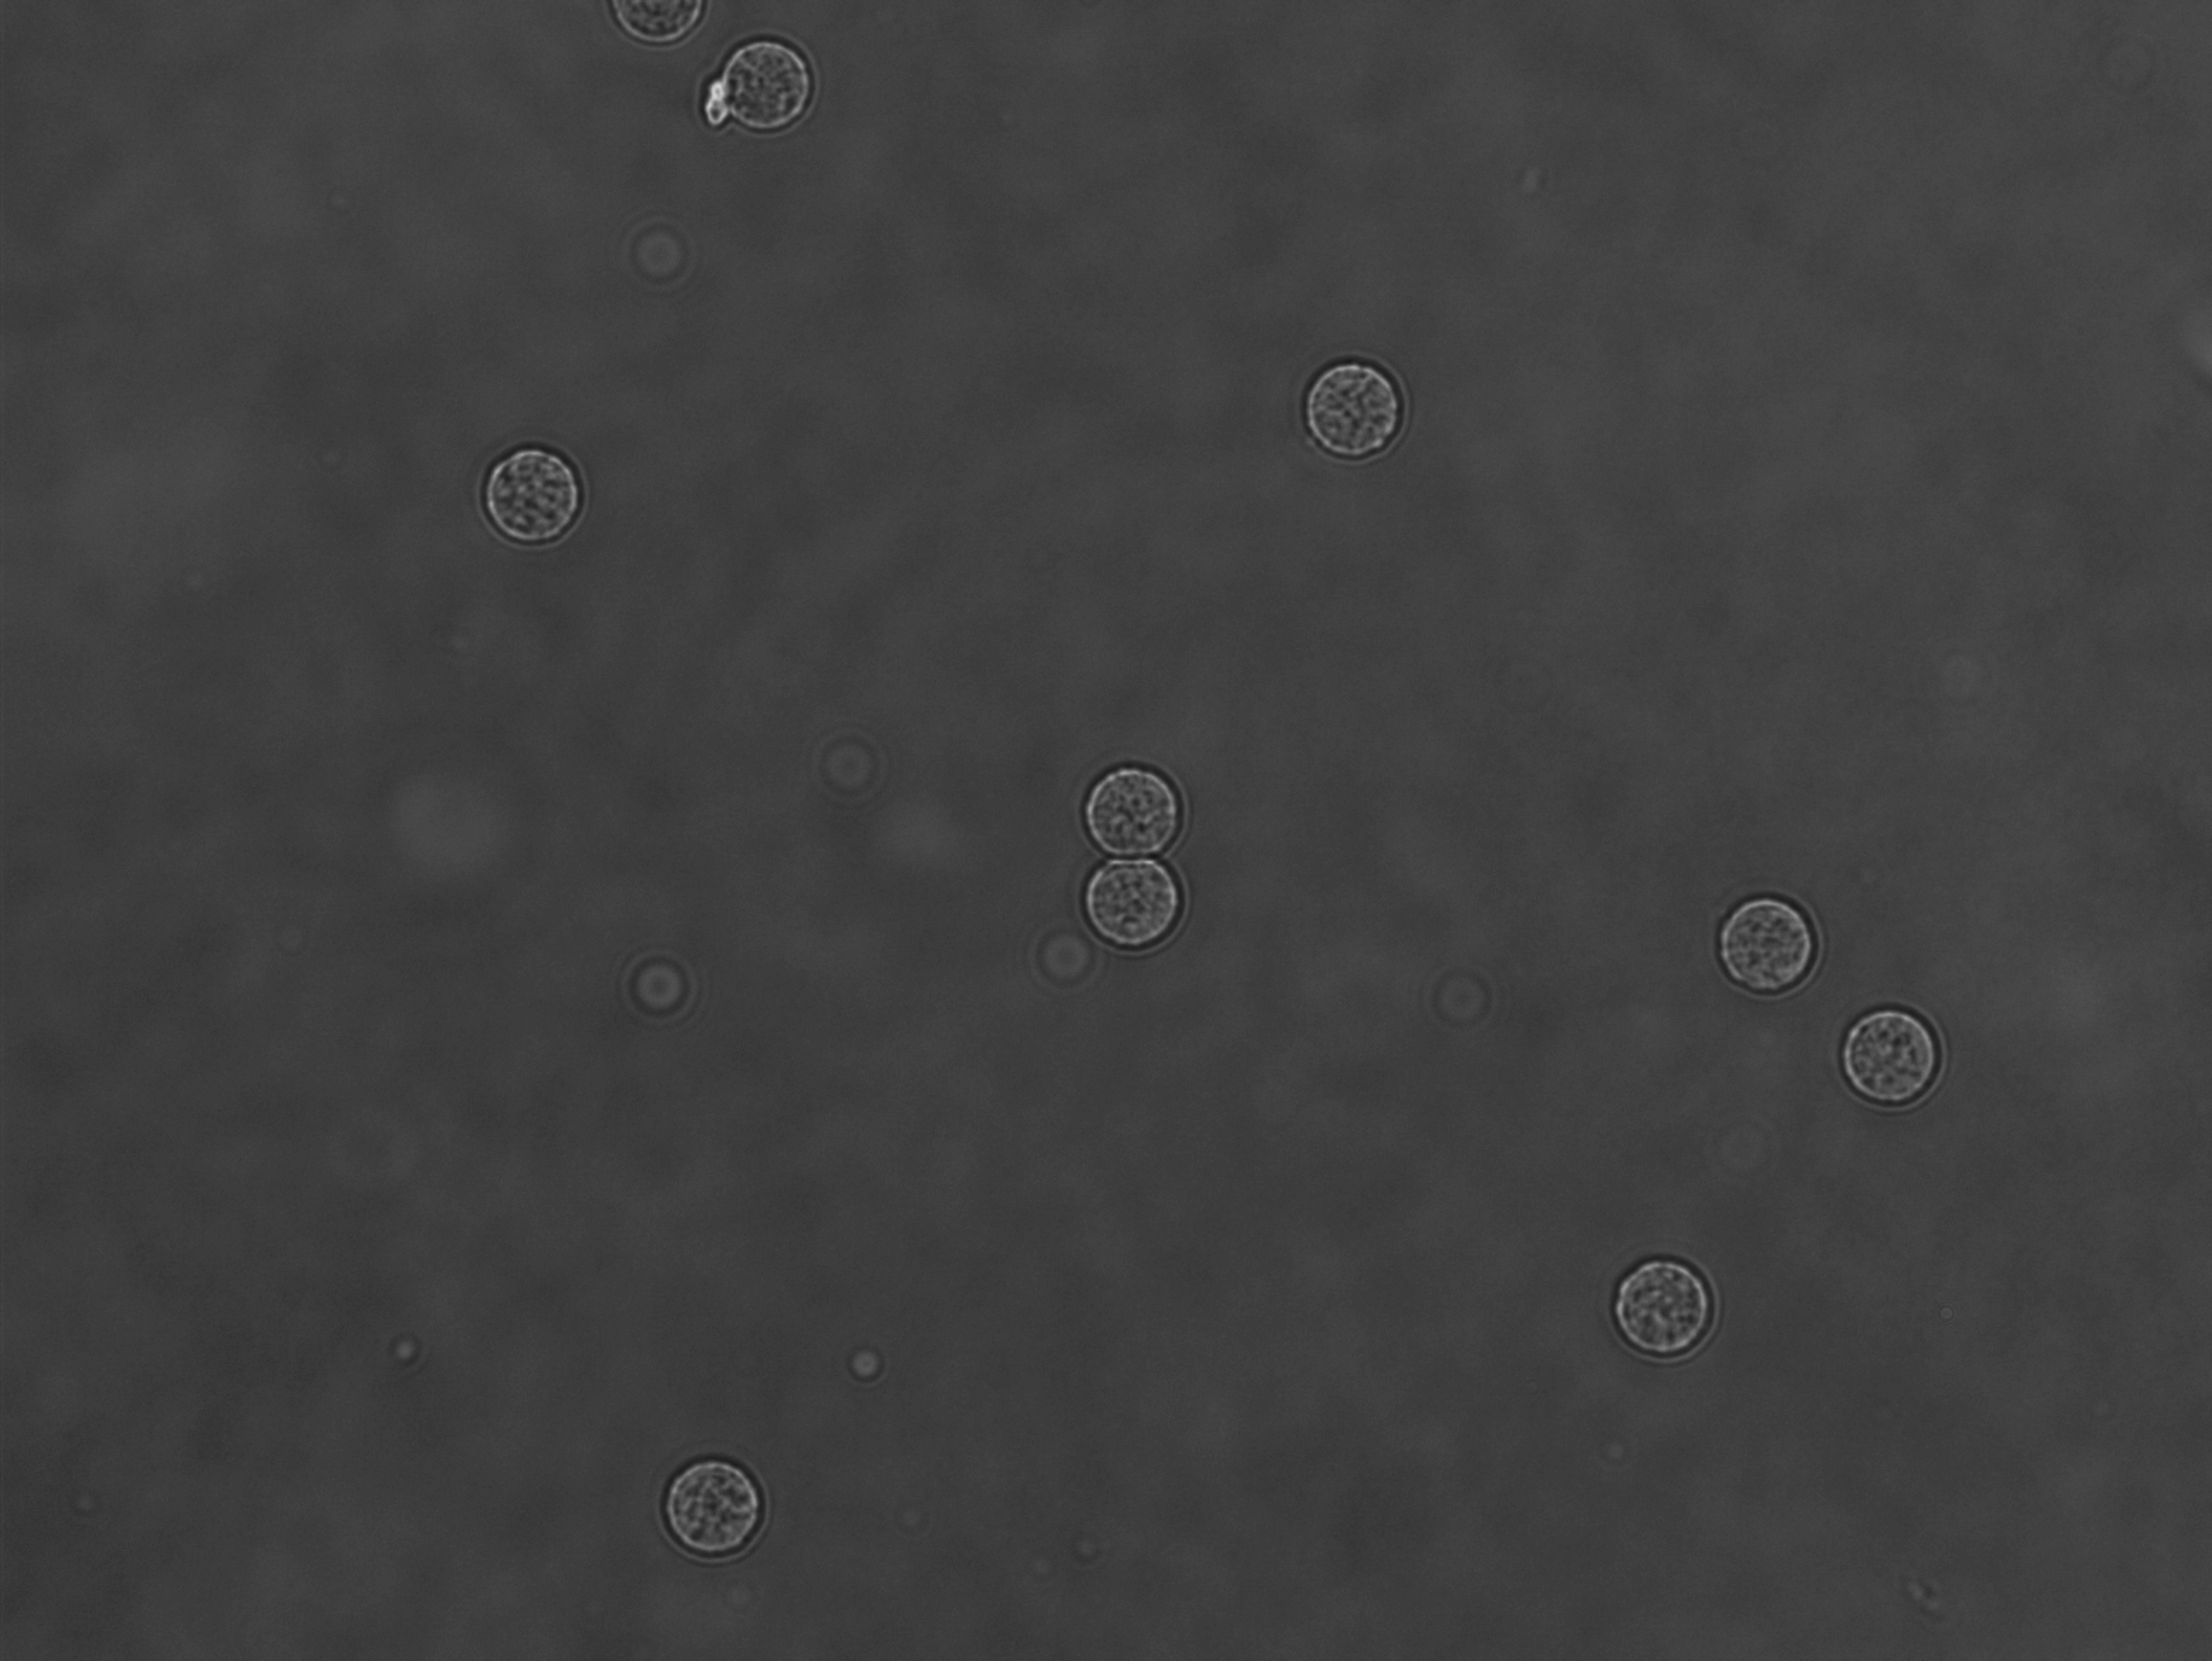depth:0: (1696, 851, 1844, 1017), (632, 1434, 792, 1581), (1591, 1239, 1739, 1394), (1293, 338, 1429, 471), (1818, 974, 1947, 1113), (1064, 750, 1207, 876), (471, 424, 593, 564), (701, 24, 841, 143), (1069, 844, 1195, 961)
